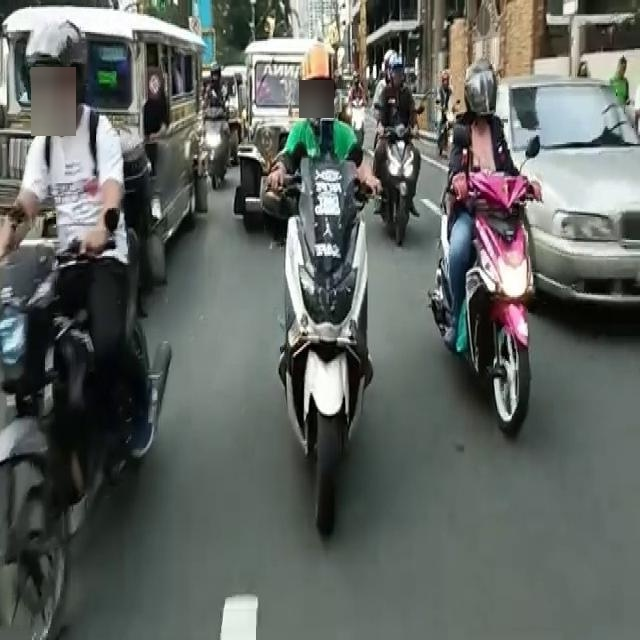car: (518, 71, 640, 301)
jeepney: (14, 9, 634, 197), (196, 20, 563, 294), (270, 40, 409, 242)
motorcycle: (0, 112, 149, 578), (277, 116, 361, 526), (441, 66, 511, 401), (373, 74, 421, 258), (203, 68, 227, 195)
